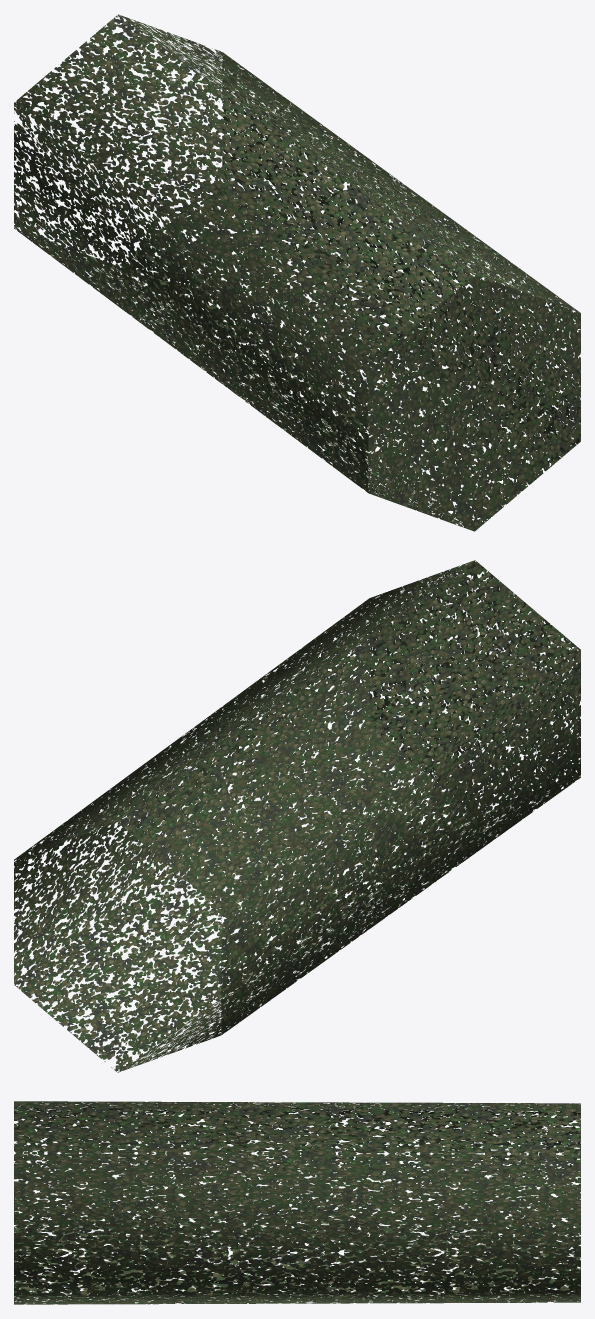
Rendered from t5_foliage_hedge_rounded01_LOD3.obj.
3 renders of one model, top to bottom at view 1: azimuth 30°, elevation 25°; view 2: azimuth 150°, elevation 25°; view 3: azimuth 270°, elevation 25°, orthographic. The views are drawn at different scales.
Parts seen in each view (by area): view 1: mtl_p6_foliage_hedge2; view 2: mtl_p6_foliage_hedge2; view 3: mtl_p6_foliage_hedge2.
Boxes of the visible parts, x1,y1,x2,y2 form: mtl_p6_foliage_hedge2: (14,14,580,531); mtl_p6_foliage_hedge2: (14,560,580,1072); mtl_p6_foliage_hedge2: (14,1101,580,1304).
Bounding box in the file's own units: 89.24 × 103 × 260.
